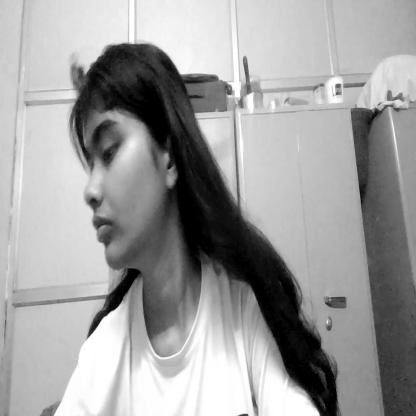Distracted: (66, 40, 198, 279)
